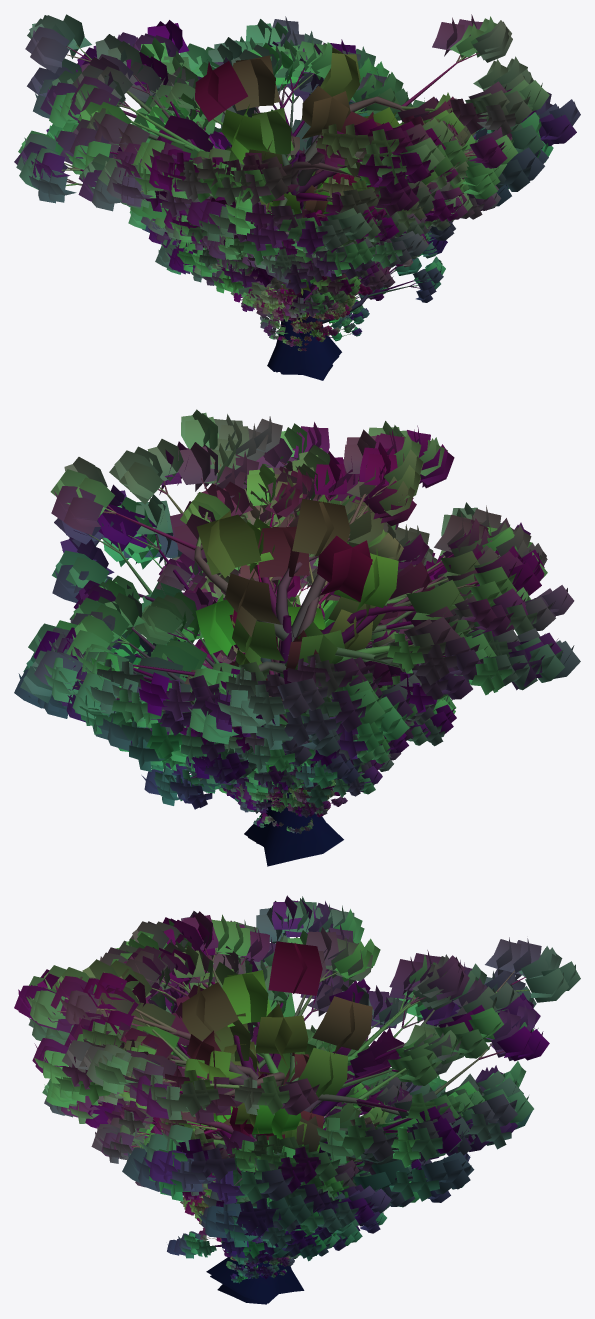
Rendered from trees_oak.glb.
3 renders of one model, top to bottom at view 1: azimuth 30°, elevation 25°; view 2: azimuth 150°, elevation 25°; view 3: azimuth 270°, elevation 25°, orthographic. The views are drawn at different scales.
Visible parts, largest first — view 1: oak_ancient_04_LOD0, oak_ancient_03_LOD0, oak_ancient_02_LOD0, oak_ancient_01_LOD0, oak_mature_01_LOD0, oak_mature_04_LOD0, oak_mature_03_LOD0, oak_young_01_LOD0, oak_young_04_LOD0, oak_young_02_LOD0, oak_young_03_LOD0; view 2: oak_ancient_04_LOD0, oak_ancient_03_LOD0, oak_ancient_02_LOD0, oak_ancient_01_LOD0, oak_mature_04_LOD0, oak_mature_03_LOD0, oak_mature_01_LOD0, oak_mature_02_LOD0, oak_young_04_LOD0, oak_young_02_LOD0; view 3: oak_ancient_04_LOD0, oak_ancient_03_LOD0, oak_ancient_02_LOD0, oak_ancient_01_LOD0, oak_mature_04_LOD0, oak_mature_01_LOD0, oak_mature_03_LOD0, oak_mature_02_LOD0, oak_young_01_LOD0.
Part boxes in pixels (left/top/right/bottom): oak_ancient_04_LOD0: left=14, top=14, right=580, bottom=371; oak_ancient_03_LOD0: left=46, top=16, right=517, bottom=372; oak_ancient_02_LOD0: left=155, top=127, right=474, bottom=380; oak_ancient_01_LOD0: left=127, top=171, right=501, bottom=339; oak_mature_01_LOD0: left=166, top=242, right=445, bottom=323; oak_mature_04_LOD0: left=155, top=134, right=450, bottom=287; oak_mature_03_LOD0: left=128, top=131, right=435, bottom=276; oak_young_01_LOD0: left=260, top=308, right=362, bottom=341; oak_young_04_LOD0: left=238, top=258, right=413, bottom=317; oak_young_02_LOD0: left=241, top=293, right=369, bottom=328; oak_young_03_LOD0: left=230, top=285, right=363, bottom=323; oak_ancient_04_LOD0: left=14, top=409, right=580, bottom=866; oak_ancient_03_LOD0: left=20, top=422, right=574, bottom=845; oak_ancient_02_LOD0: left=118, top=497, right=447, bottom=843; oak_ancient_01_LOD0: left=121, top=529, right=448, bottom=788; oak_mature_04_LOD0: left=133, top=561, right=456, bottom=809; oak_mature_03_LOD0: left=150, top=599, right=430, bottom=770; oak_mature_01_LOD0: left=165, top=658, right=401, bottom=808; oak_mature_02_LOD0: left=151, top=639, right=318, bottom=793; oak_young_04_LOD0: left=218, top=778, right=338, bottom=811; oak_young_02_LOD0: left=230, top=787, right=330, bottom=817; oak_ancient_04_LOD0: left=14, top=895, right=580, bottom=1301; oak_ancient_03_LOD0: left=28, top=911, right=549, bottom=1303; oak_ancient_02_LOD0: left=42, top=1022, right=446, bottom=1304; oak_ancient_01_LOD0: left=61, top=1029, right=403, bottom=1248; oak_mature_04_LOD0: left=117, top=1082, right=470, bottom=1258; oak_mature_01_LOD0: left=135, top=1117, right=386, bottom=1264; oak_mature_03_LOD0: left=150, top=1100, right=403, bottom=1249; oak_mature_02_LOD0: left=126, top=1135, right=362, bottom=1261; oak_young_01_LOD0: left=198, top=1227, right=299, bottom=1283.
Size of what is drawn, in the model's own units: 42.42 by 24.62 by 39.77.
